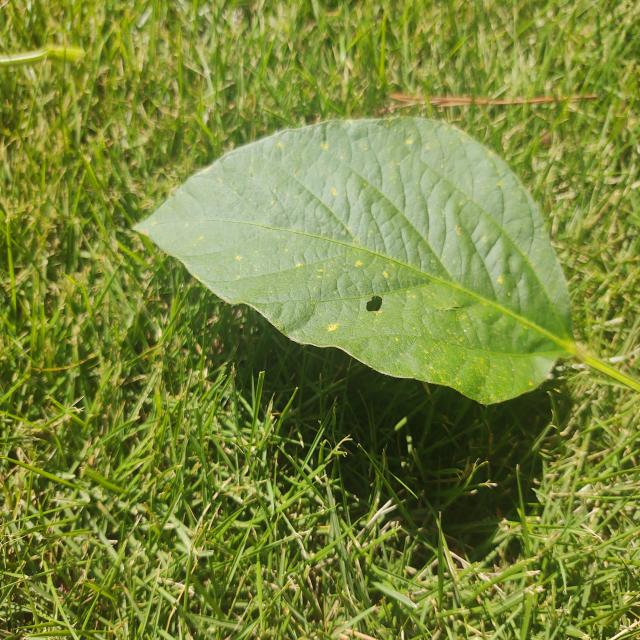Soybean: (130, 115, 582, 408)
downey_mildew: (146, 229, 387, 345), (459, 291, 640, 391), (414, 263, 565, 342), (347, 273, 455, 374), (305, 230, 437, 299), (514, 197, 574, 347), (136, 211, 258, 284), (61, 126, 133, 244), (291, 173, 382, 259), (427, 342, 564, 399), (136, 169, 240, 243), (187, 131, 310, 180), (439, 195, 484, 292), (222, 220, 343, 248), (395, 274, 477, 315), (282, 259, 340, 305), (197, 275, 261, 307), (161, 181, 208, 221), (483, 236, 510, 288), (136, 216, 230, 230)
